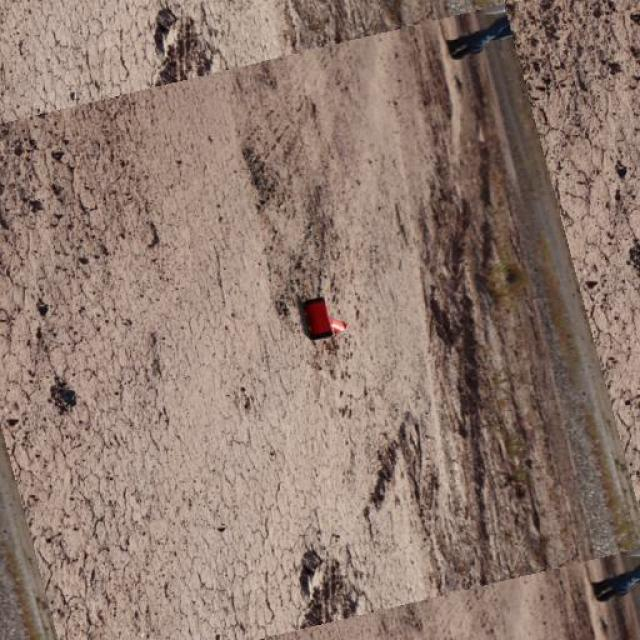mallet: (300, 295, 346, 340)
